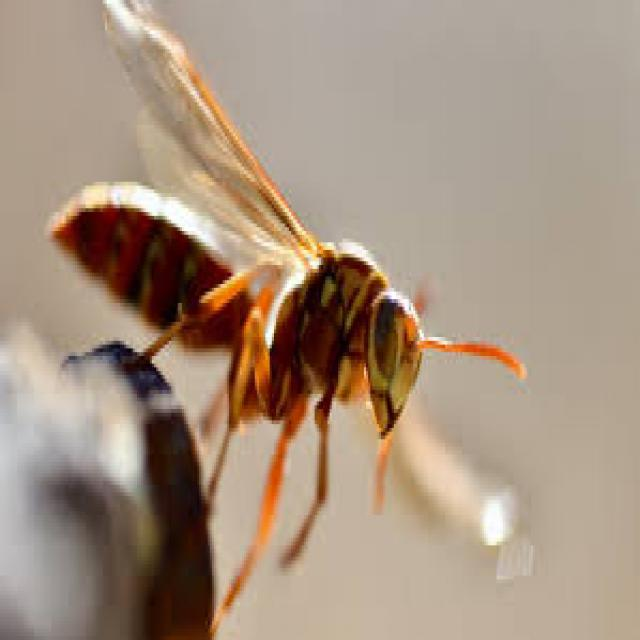Vespa Orientalis: (32, 0, 537, 636)
